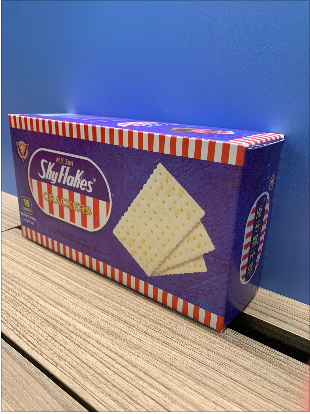Crackers_400-499g: (18, 124, 234, 277)
